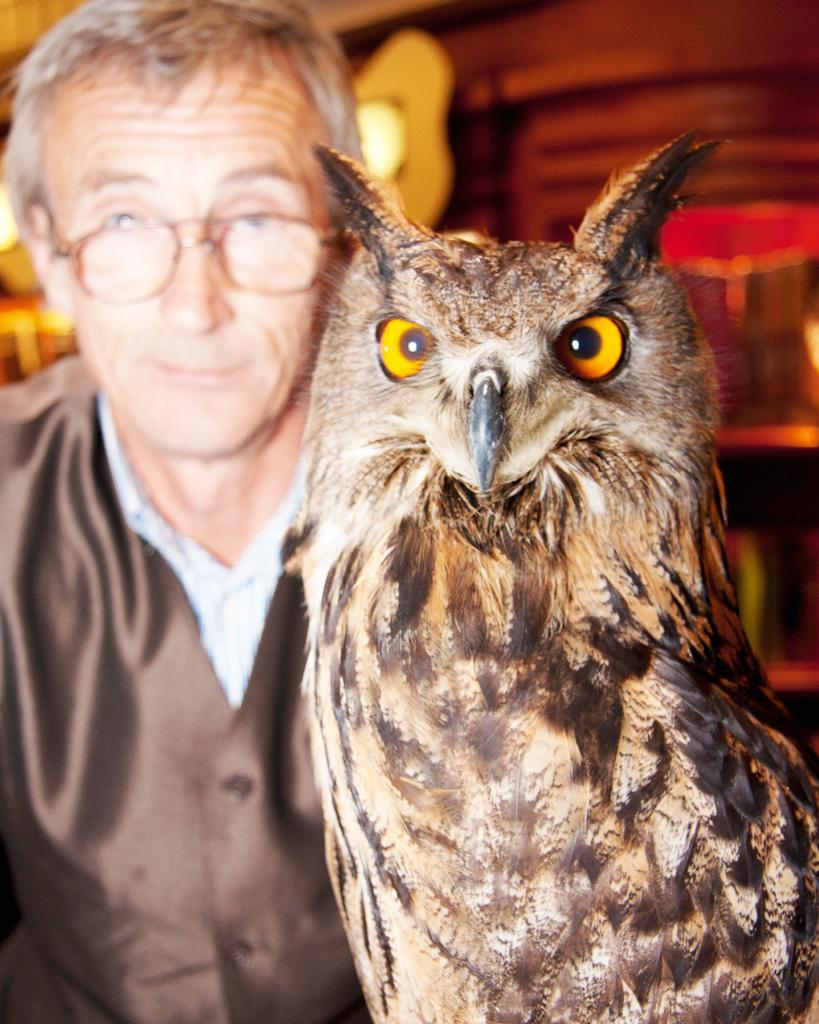Owl: (277, 100, 818, 1024)
